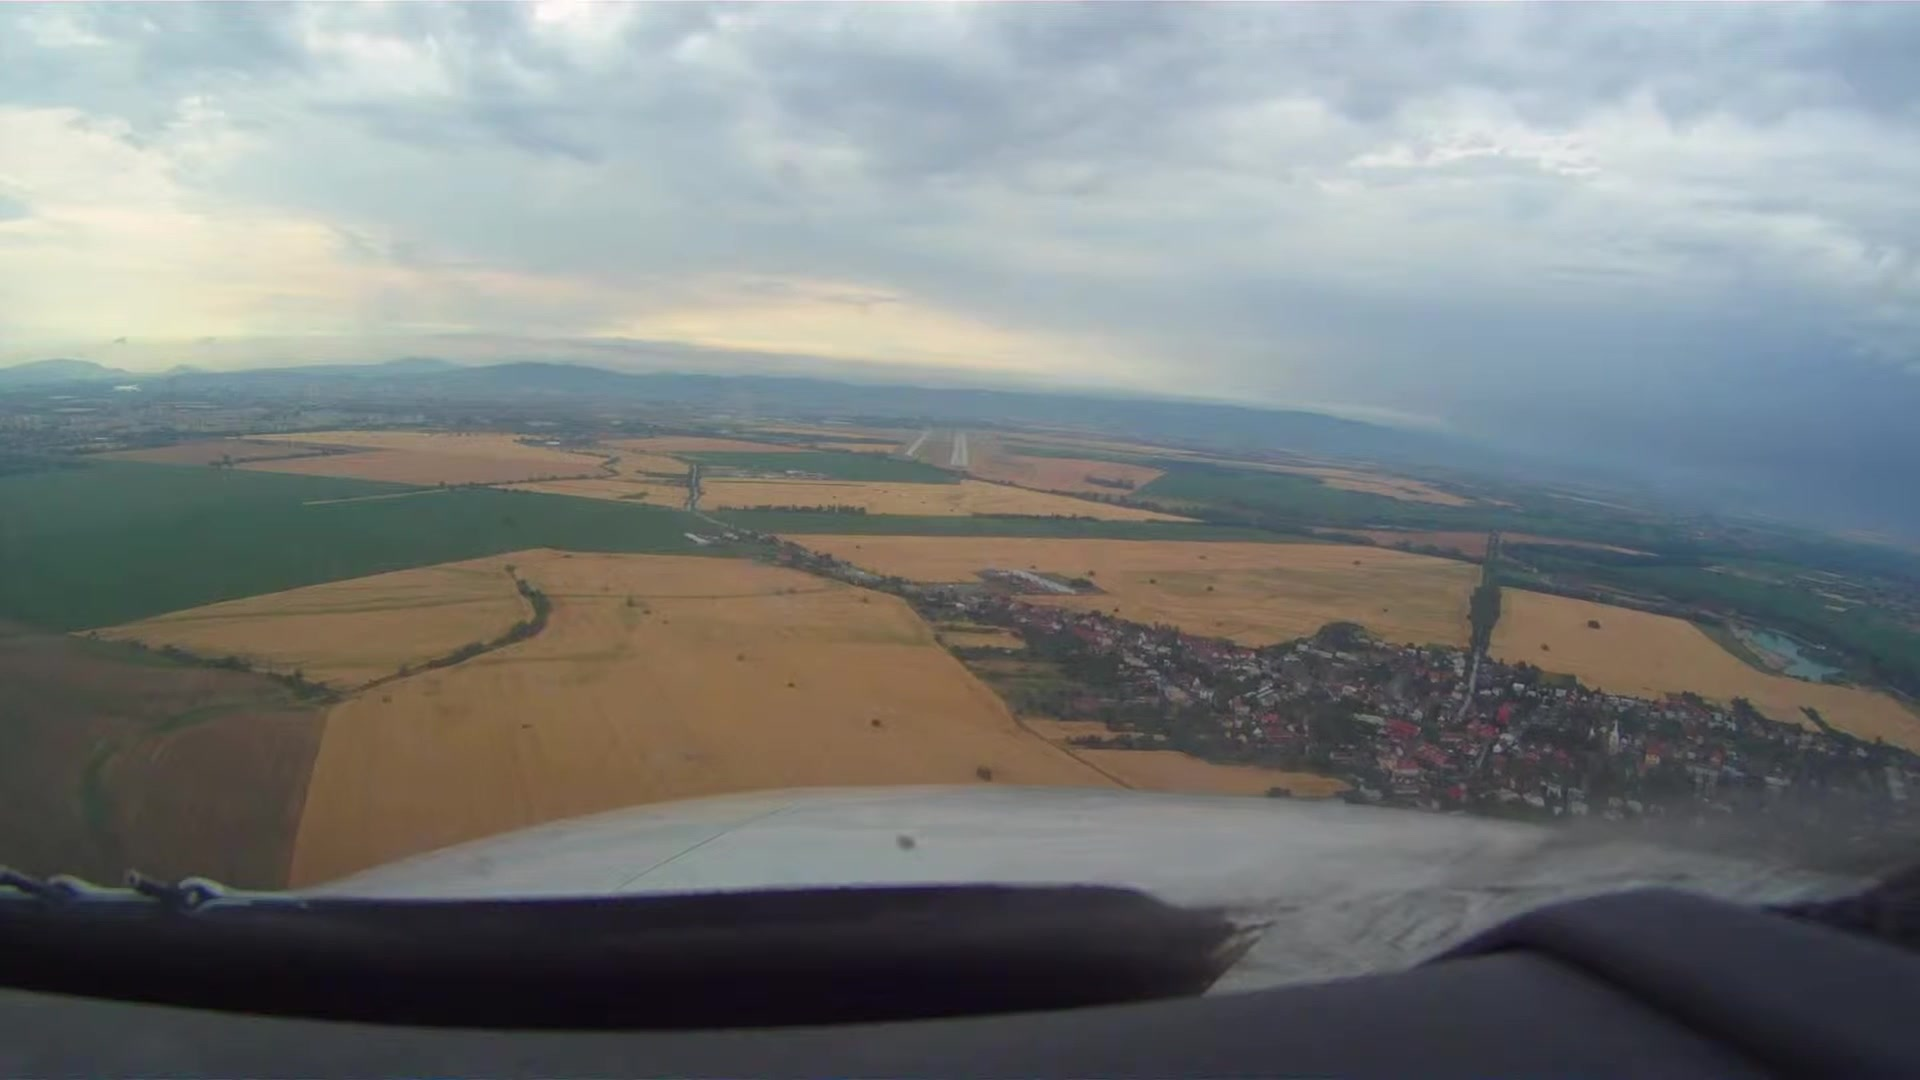runway: (949, 426, 975, 469)
